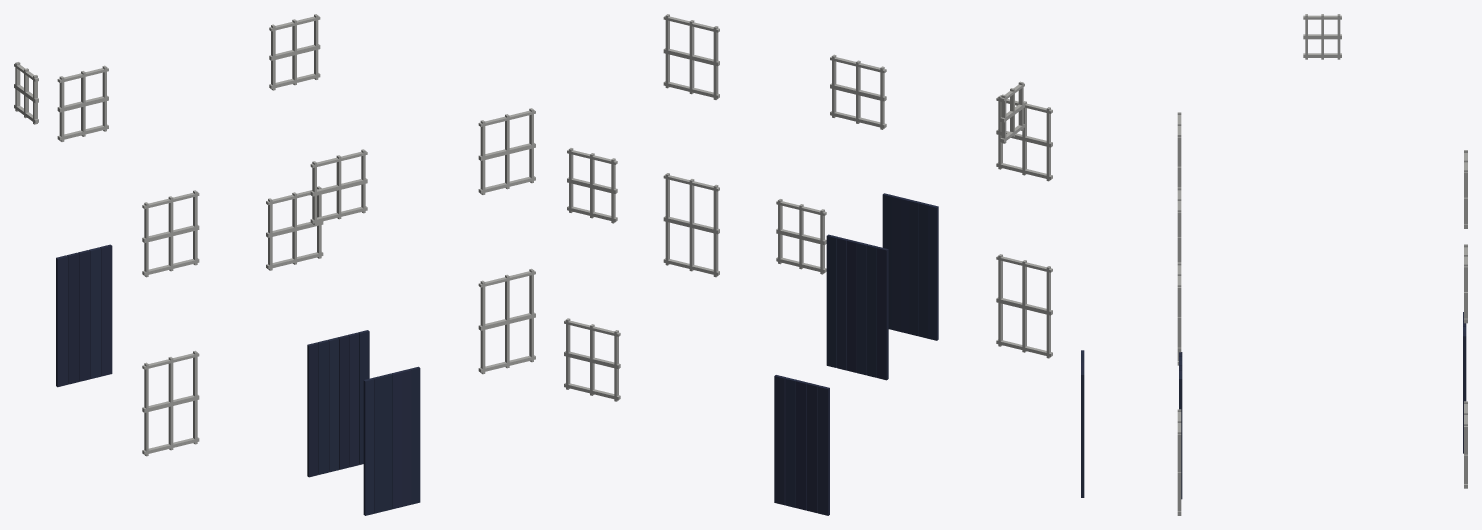
File: SM_Bld_211_Wood.glb
3 views of the same model, side by side, from view 1: azimuth 30°, elevation 25°; view 2: azimuth 150°, elevation 25°; view 3: azimuth 270°, elevation 25° (orthographic). The views are drawn at different scales.
Parts seen in each view (by area): view 1: SM_Bld_211_Wood; view 2: SM_Bld_211_Wood; view 3: SM_Bld_211_Wood.
Boxes of the visible parts, box(x1,y1,x2,y2) form: SM_Bld_211_Wood: box(14, 14, 535, 515); SM_Bld_211_Wood: box(564, 14, 1052, 515); SM_Bld_211_Wood: box(1081, 14, 1467, 515).
Bounding box in the file's own units: 7.05 × 6.25 × 5.98.
